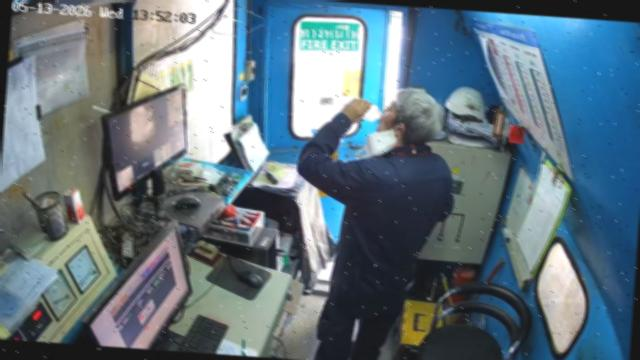Head: (376, 89, 446, 144)
People: (296, 90, 456, 359)
